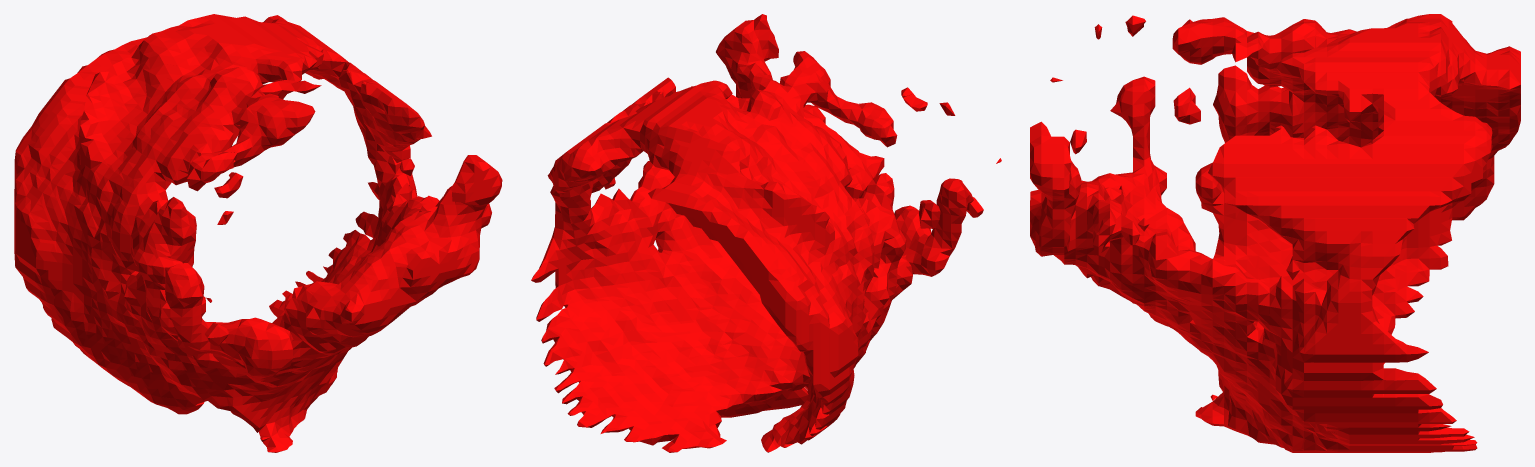
File: B939XXXX-1_valve_28.obj
The picture shows the model from 3 angles, left to right: view 1: azimuth 30°, elevation 25°; view 2: azimuth 150°, elevation 25°; view 3: azimuth 270°, elevation 25°; orthographic projection. The views are drawn at different scales.
Visible parts, largest first — view 1: 28_valve; view 2: 28_valve; view 3: 28_valve.
Part boxes in pixels (left/top/right/bottom): 28_valve: left=14, top=14, right=502, bottom=452; 28_valve: left=531, top=14, right=1001, bottom=452; 28_valve: left=1030, top=14, right=1520, bottom=452.
Size of the model in its own units: 77.98 by 76.97 by 85.95.
